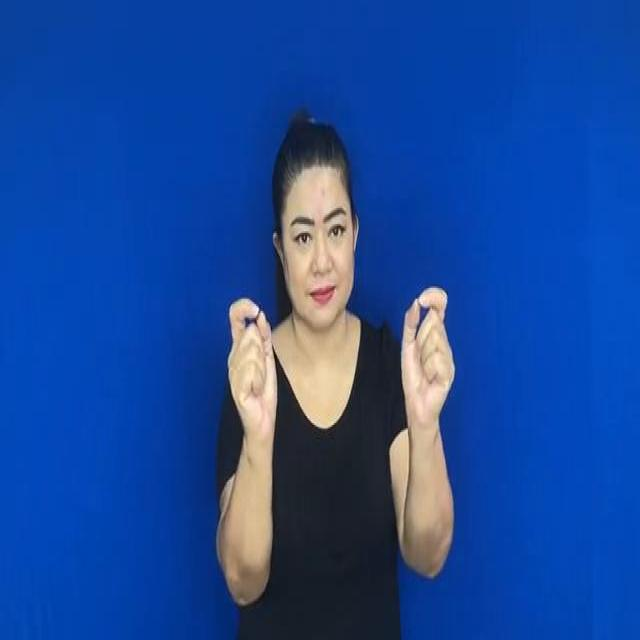crab: (215, 282, 468, 421)
